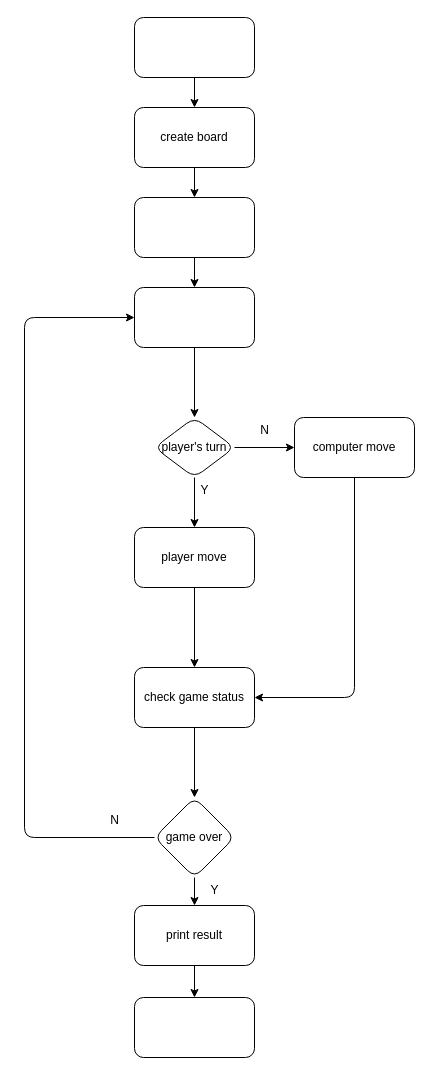
This 432x1075 diagram has some shape labels left out. The shapes that lost their labels are listed below. From the top down, each one's box as (x1, y1, x2, y2) in pixels, then its label:
(134, 16, 254, 78): Start
(134, 196, 254, 258): get o or x
(134, 286, 254, 348): display board
(134, 996, 254, 1058): exit
